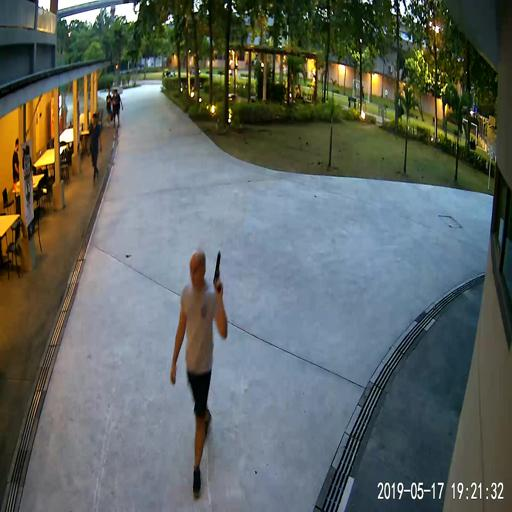pistol: (213, 249, 223, 293)
